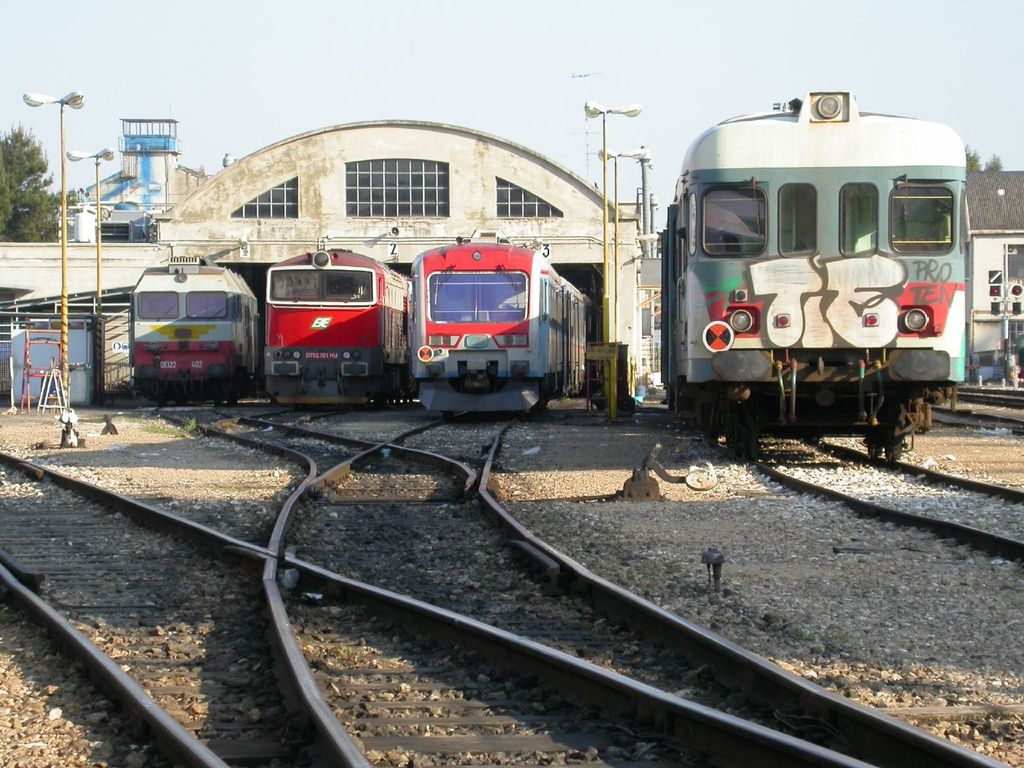train: (656, 92, 969, 462), (408, 243, 602, 408), (264, 248, 414, 398), (131, 260, 259, 394)
